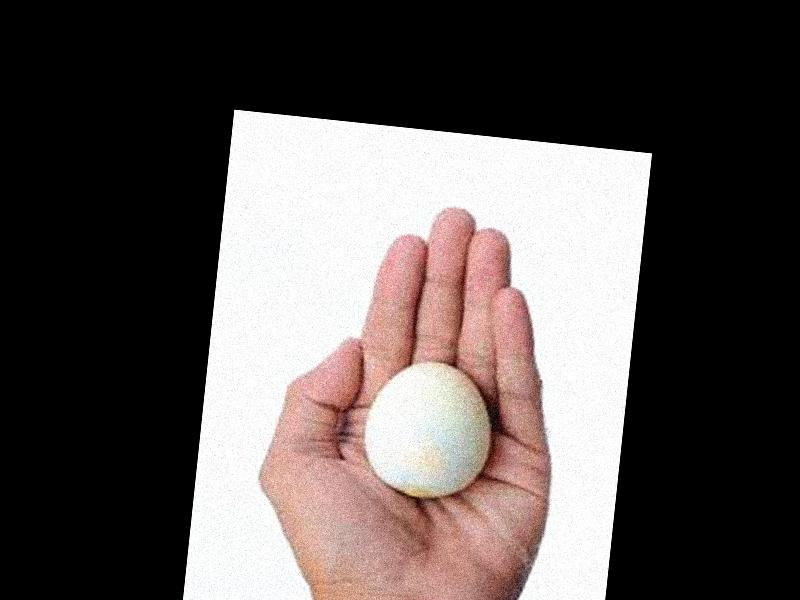Eggs: (361, 353, 495, 503)
